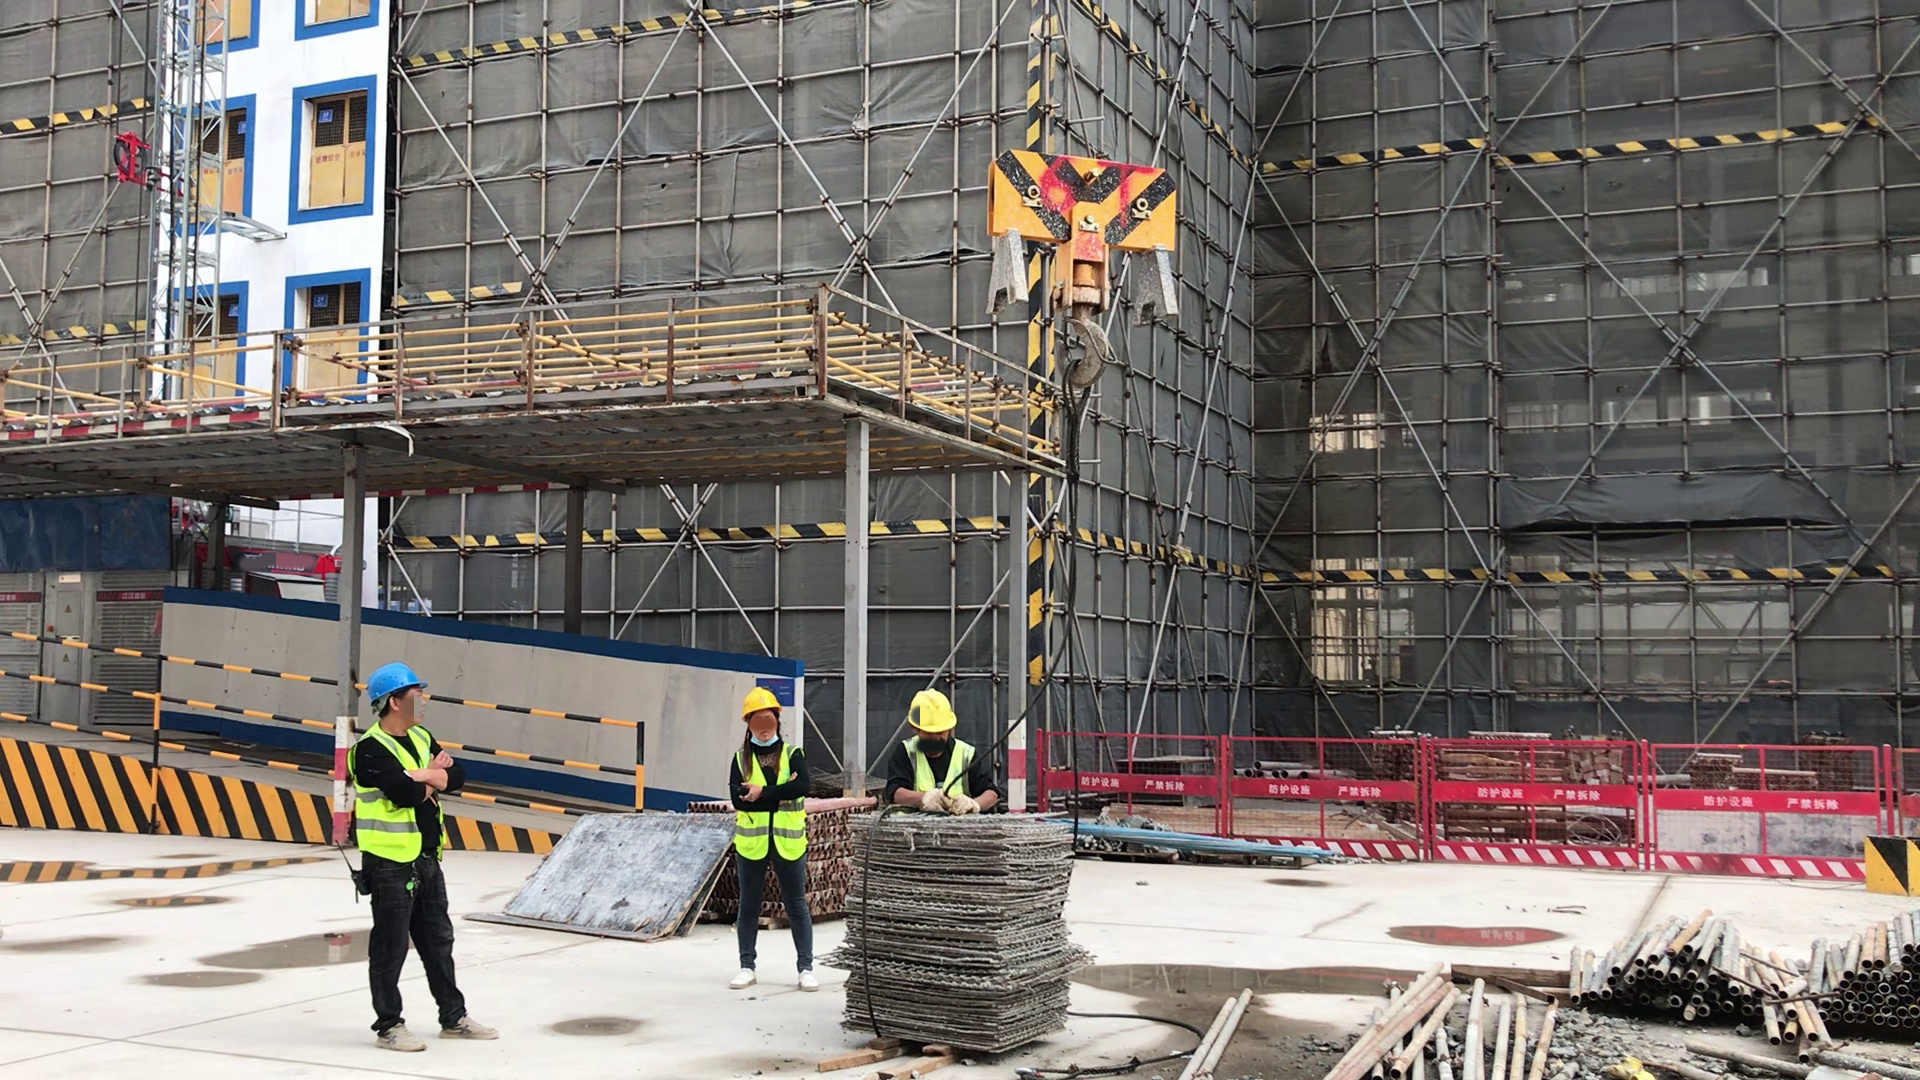fence: (1317, 720, 1863, 883), (13, 627, 319, 771), (1087, 722, 1313, 834), (450, 690, 650, 809)
helmet: (901, 689, 960, 734), (364, 664, 429, 705), (744, 689, 785, 723)
hook: (976, 141, 1185, 385)
person: (344, 663, 517, 1057), (723, 683, 830, 997), (880, 687, 1007, 820)
scaffold: (1545, 886, 1804, 1036), (1810, 913, 1920, 1035)
slogan: (118, 591, 147, 600), (1, 592, 19, 603)
vest: (355, 724, 456, 872), (734, 745, 812, 871), (889, 735, 980, 813)
